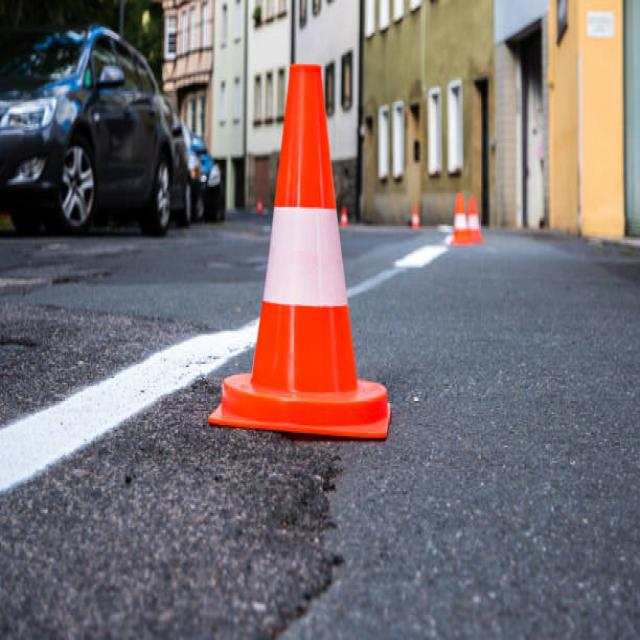Traffic Cone: (198, 35, 406, 476)
